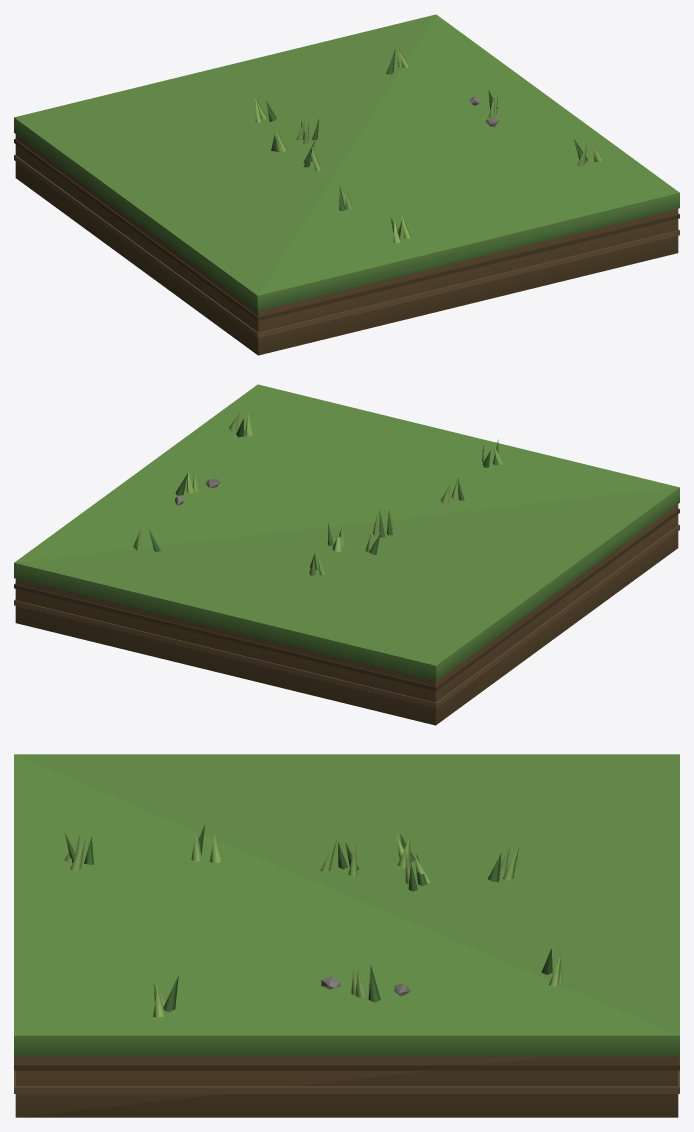
Rendered from grass-pasture.glb.
3 renders of one model, top to bottom at view 1: azimuth 30°, elevation 25°; view 2: azimuth 150°, elevation 25°; view 3: azimuth 270°, elevation 25°, orthographic. The views are drawn at different scales.
Visible parts, largest first — view 1: grass_pasture; view 2: grass_pasture; view 3: grass_pasture.
Boxes of the visible parts, x1=… form: grass_pasture: x1=14, y1=14, x2=679, y2=355; grass_pasture: x1=14, y1=384, x2=679, y2=725; grass_pasture: x1=14, y1=754, x2=679, y2=1117.
Size of the model in its own units: 4.02 by 0.7734 by 4.02.
